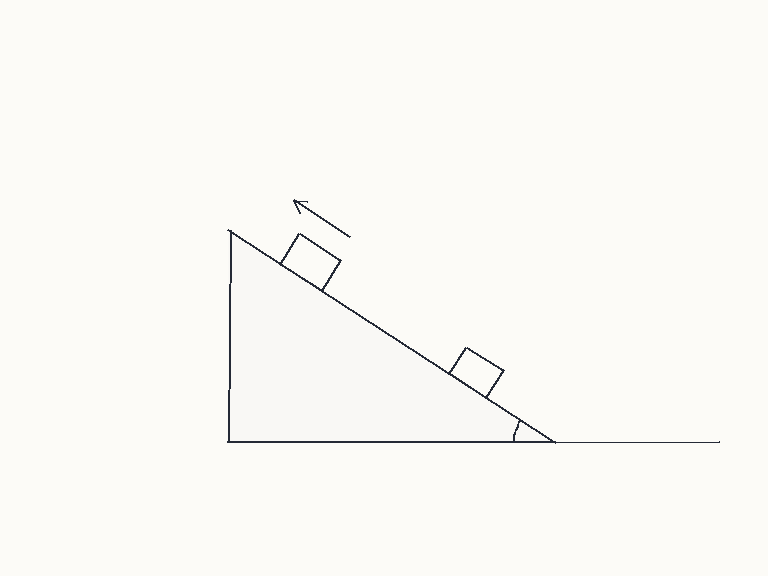block: (278, 232, 342, 293), (447, 344, 505, 400)
ramp: (227, 229, 556, 444)
